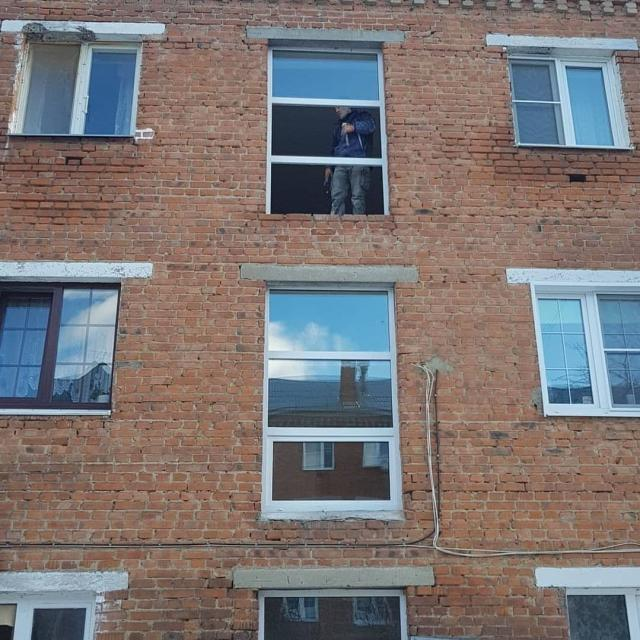Window: (270, 295, 395, 501), (6, 292, 106, 407), (24, 41, 130, 137), (536, 294, 632, 398), (510, 56, 612, 140), (274, 52, 380, 105), (259, 598, 406, 636), (8, 598, 86, 634), (566, 595, 634, 635)
